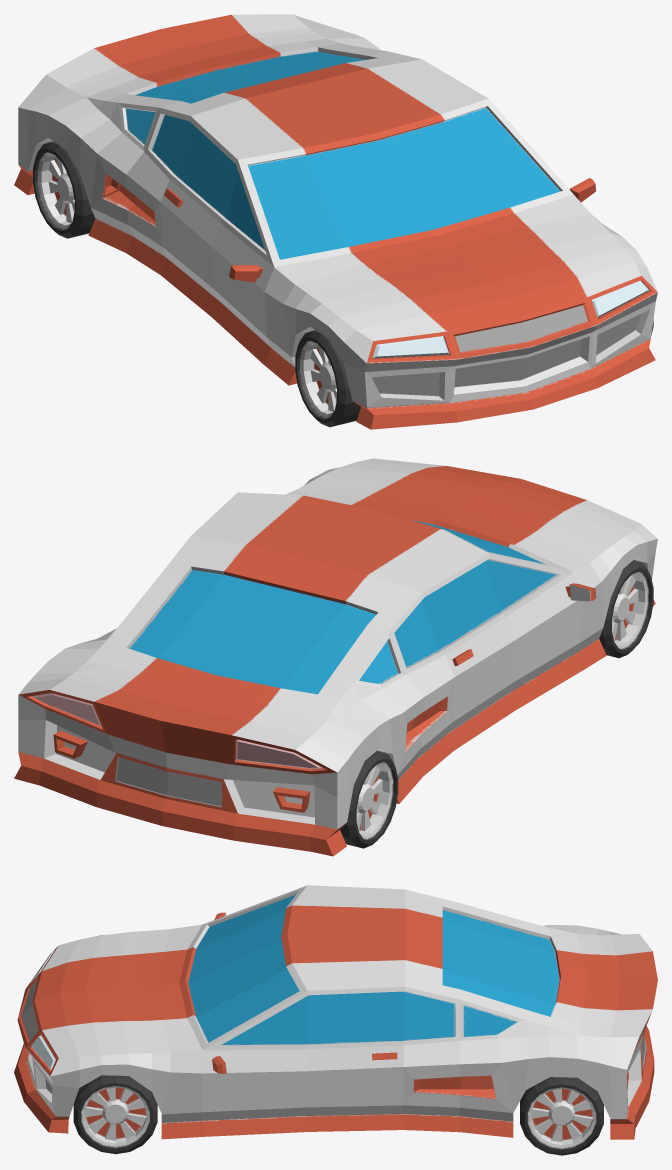
Rendered from sportCar.fbx.
3 renders of one model, top to bottom at view 1: azimuth 30°, elevation 25°; view 2: azimuth 150°, elevation 25°; view 3: azimuth 270°, elevation 25°, orthographic. The views are drawn at different scales.
Parts seen in each view (by area): view 1: body, rightWheel, rearWheals; view 2: body, rearWheals, rightWheel, breakLIghts; view 3: body, leftWheel, rearWheals.
Boxes of the visible parts, x1,y1,x2,y2 form: body: (14,14,657,429); rightWheel: (295,330,360,427); rearWheals: (33,141,95,238); body: (14,458,657,856); rearWheals: (340,751,398,848); rightWheel: (599,561,653,658); breakLIghts: (32,693,322,768); body: (14,885,657,1139); leftWheel: (73,1075,157,1154); rearWheals: (520,1077,603,1155).
Size of the model in its own units: 216 by 102 by 383.
1 material, 1 textured.
